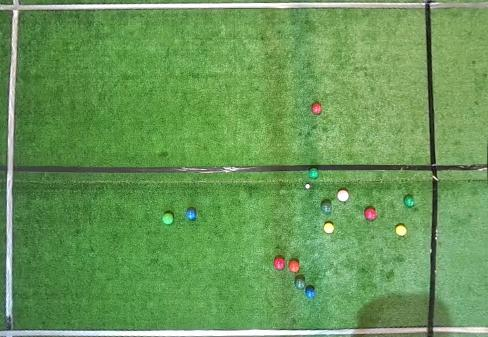blue: (185, 208, 196, 221), (305, 288, 316, 299)
green: (294, 278, 306, 289), (321, 201, 332, 213), (162, 213, 174, 224), (404, 195, 414, 208), (308, 168, 319, 179)
red: (364, 208, 377, 221), (337, 190, 349, 202), (274, 257, 285, 270), (311, 103, 322, 115), (289, 260, 299, 273)
vline: (424, 0, 487, 336), (0, 0, 21, 336)
white: (305, 184, 310, 189)
yellow: (395, 225, 407, 237), (323, 222, 334, 234)
